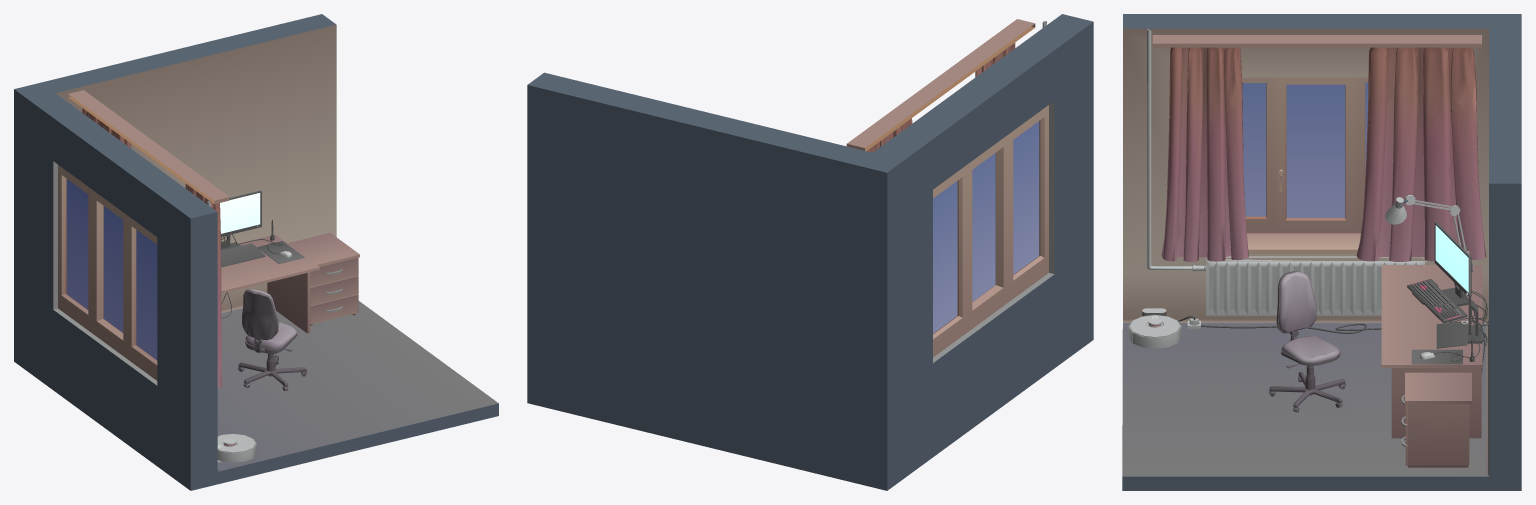
File: optimized-room.glb
The picture shows the model from 3 angles, left to right: view 1: azimuth 30°, elevation 25°; view 2: azimuth 150°, elevation 25°; view 3: azimuth 270°, elevation 25°; orthographic projection. The views are drawn at different scales.
Parts seen in each view (by area): view 1: _________6_blinn1_0, window4_phong1_0, emis_lambert1_0; view 2: _________6_blinn1_0, window4_phong1_0; view 3: _________6_blinn1_0, window4_phong1_0, emis_lambert1_0.
Boxes of the visible parts, x1,y1,x2,y2 form: _________6_blinn1_0: (14, 14, 498, 490); window4_phong1_0: (66, 179, 157, 359); emis_lambert1_0: (218, 193, 281, 447); _________6_blinn1_0: (527, 14, 1093, 490); window4_phong1_0: (933, 121, 1039, 333); _________6_blinn1_0: (1122, 14, 1521, 490); window4_phong1_0: (1242, 82, 1368, 217); emis_lambert1_0: (1152, 225, 1468, 353).
Bounding box in the file's own units: 6.68 × 5.66 × 6.65.
